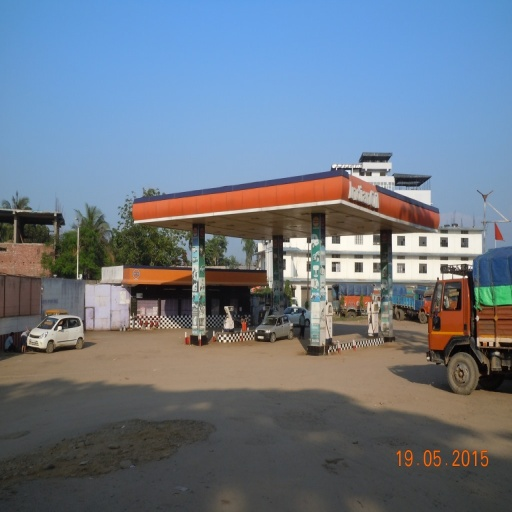roof: (131, 173, 440, 241)
